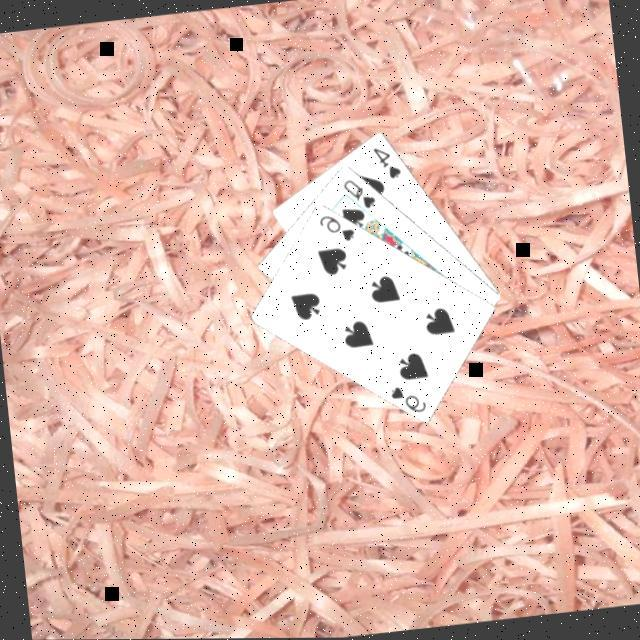4S: (368, 140, 403, 182)
6S: (385, 378, 428, 416), (314, 207, 356, 245)
QS: (338, 172, 378, 212)
